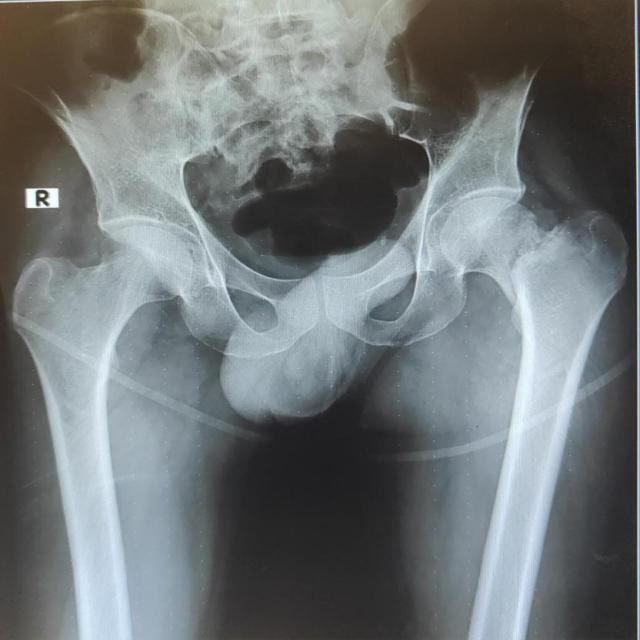left-neck: (511, 212, 630, 426), (440, 197, 542, 305)
normal-right: (13, 226, 195, 447)
